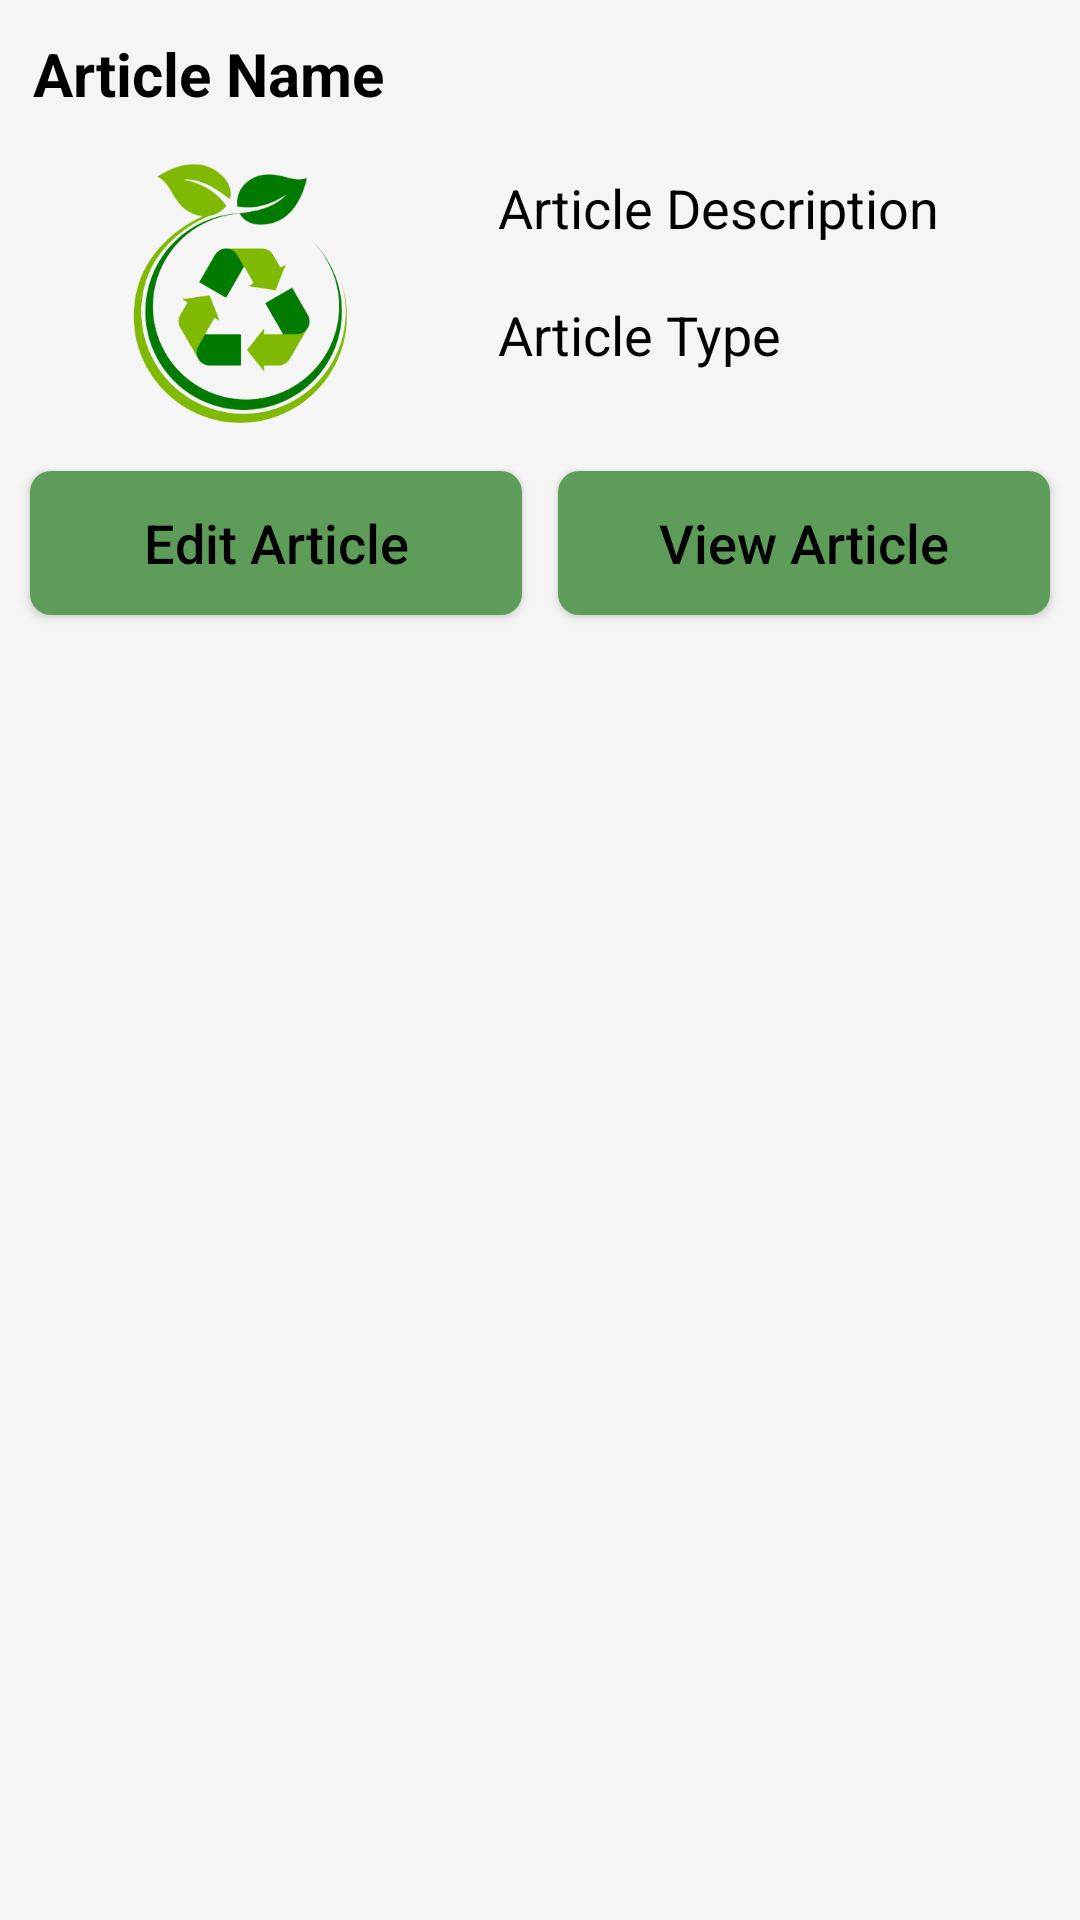

Icons on this 1080w x 1920h Android screen, each with the point to tap as [x,y]:
wastenew: [240,293]
